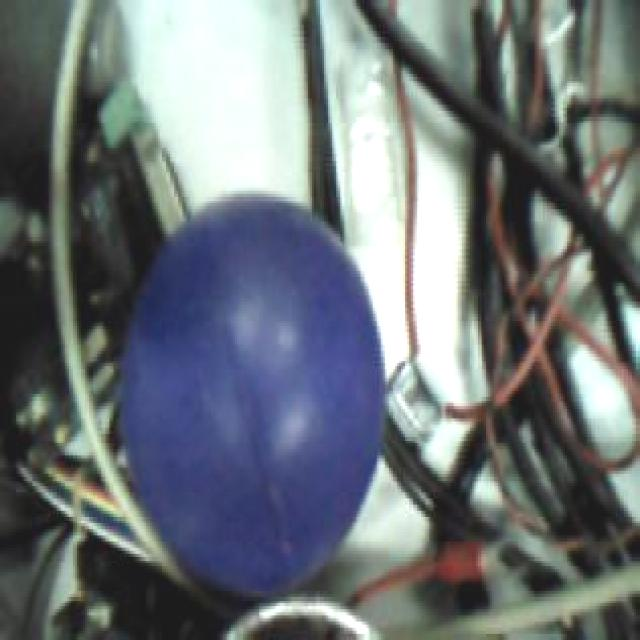BallPurple: (119, 192, 384, 597)
